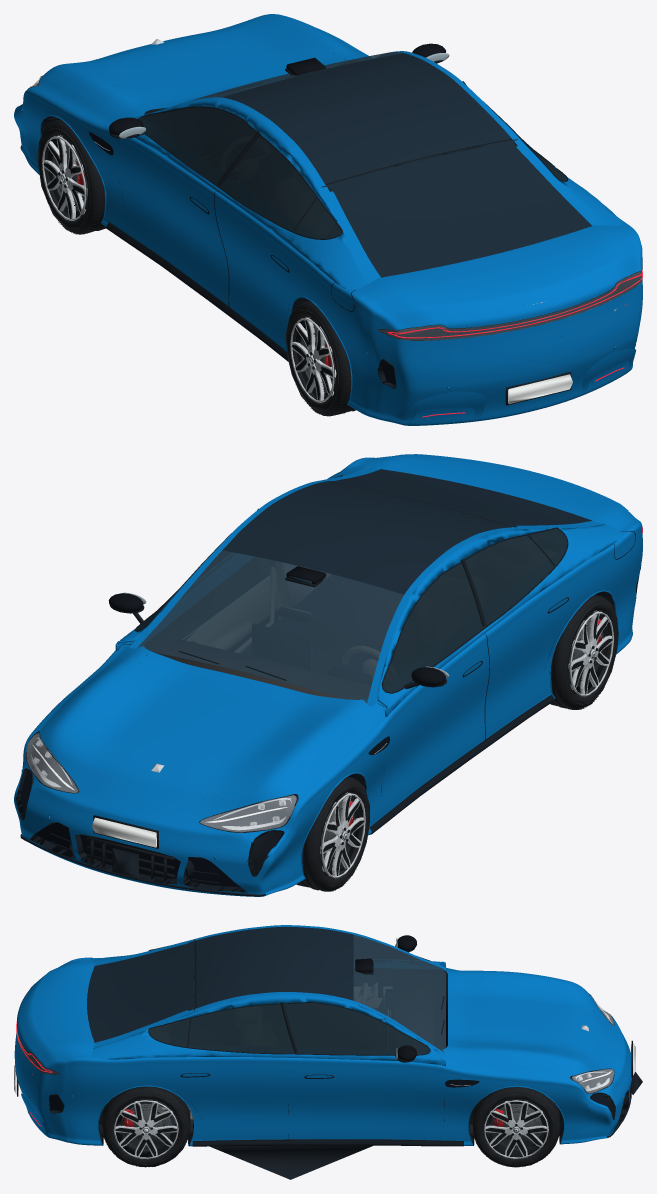
Rendered from xiaomi-su7.low.glb.
3 views of the same model, one above another, from view 1: azimuth 30°, elevation 25°; view 2: azimuth 150°, elevation 25°; view 3: azimuth 270°, elevation 25° (orthographic). The views are drawn at different scales.
Parts seen in each view (by area): view 1: geometry:body, geometry:wheel-front-left, geometry:wheel-rear-left, geometry:spoiler; view 2: geometry:body, geometry:wheel-rear-left, geometry:wheel-front-left, geometry:spoiler, geometry:interior; view 3: geometry:body, geometry:wheel-rear-right, geometry:wheel-front-right, geometry:interior, geometry:spoiler.
Boxes of the visible parts, box(x1,y1,x2,y2) form: geometry:body: box(14, 14, 642, 425); geometry:wheel-front-left: box(37, 119, 106, 234); geometry:wheel-rear-left: box(286, 300, 355, 416); geometry:spoiler: box(394, 241, 628, 309); geometry:body: box(14, 455, 642, 896); geometry:wheel-rear-left: box(550, 594, 618, 709); geometry:wheel-front-left: box(296, 776, 369, 891); geometry:spoiler: box(395, 454, 628, 510); geometry:interior: box(155, 538, 476, 699); geometry:body: box(14, 925, 642, 1146); geometry:wheel-rear-right: box(102, 1086, 190, 1167); geometry:wheel-front-right: box(472, 1087, 560, 1167); geometry:interior: box(151, 1102, 372, 1179); geometry:spoiler: box(31, 965, 64, 1052).
Bounding box in the file's own units: 2.34 × 1.99 × 5.1.
